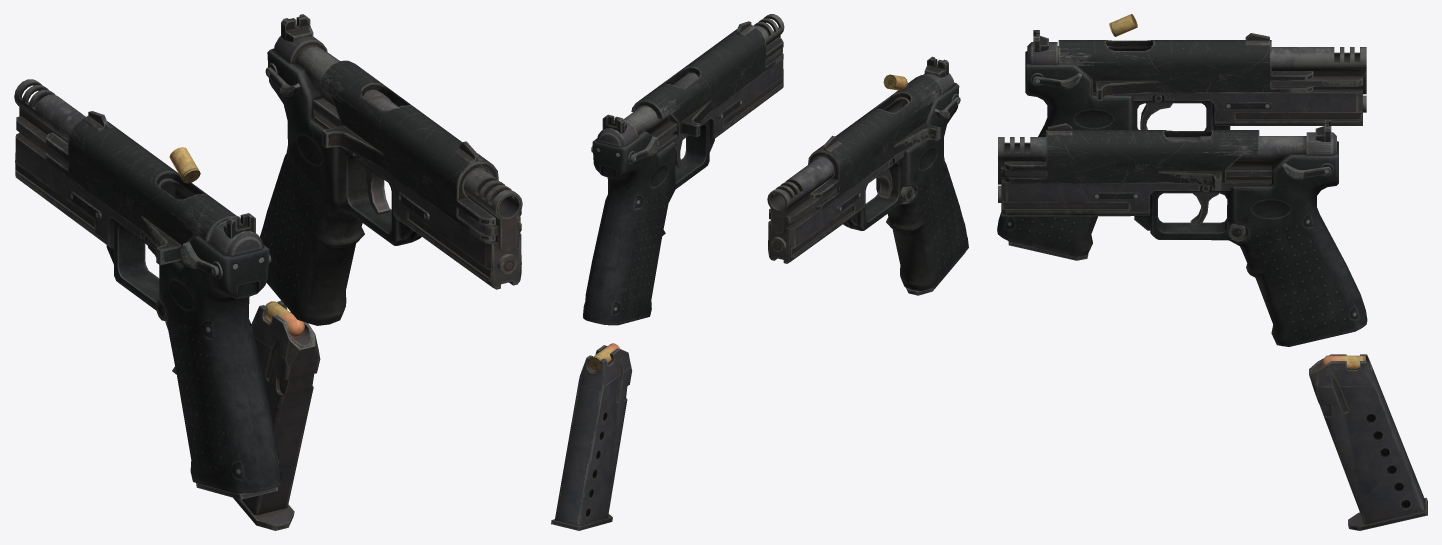
The model's file is madsonD9.fbx.
3 views of the same model, side by side, from view 1: azimuth 30°, elevation 25°; view 2: azimuth 150°, elevation 25°; view 3: azimuth 270°, elevation 25° (orthographic). The views are drawn at different scales.
Parts seen in each view (by area): view 1: base_2, base, slide, slide_2, mag, trigger, shell, bullet; view 2: base, base_2, mag, slide_2, slide; view 3: base, base_2, slide, slide_2, mag.
Part boxes in pixels (x1,y1,x2,y2): base_2: (14,79,282,493); base: (260,14,522,325); slide: (319,60,521,241); slide_2: (45,111,240,265); mag: (233,300,320,530); trigger: (362,164,389,214); shell: (169,147,200,183); bullet: (265,301,304,337); base: (583,14,784,325); base_2: (767,56,968,290); mag: (551,345,632,530); slide_2: (808,75,942,211); slide: (631,21,783,137); base: (998,120,1367,346); base_2: (997,30,1366,256); slide: (1004,123,1259,190); slide_2: (1058,33,1313,100); mag: (1309,354,1427,530).
Size of the model in its own units: 54.61 by 86.73 by 80.57.
